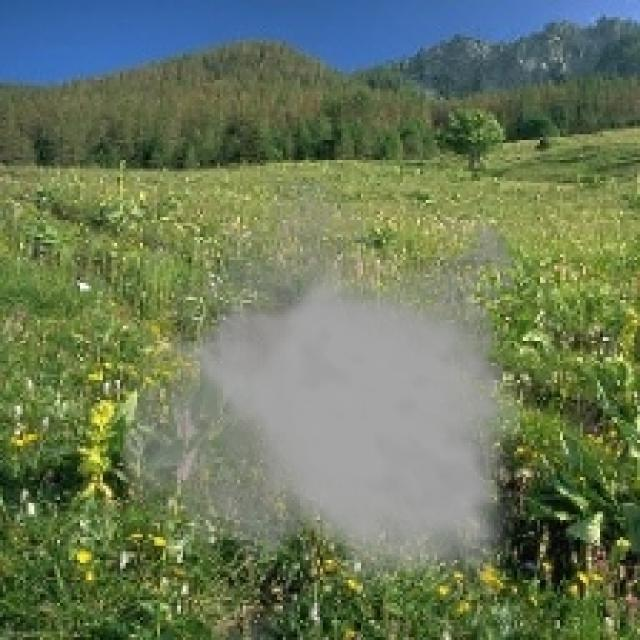smoke: (114, 174, 532, 600)
